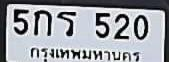0: (134, 15, 148, 40)
2: (113, 13, 129, 40)
5: (13, 9, 28, 35), (95, 12, 110, 38)
A01: (33, 9, 52, 36)
A35: (56, 11, 76, 36)
BKK: (27, 44, 143, 62)
